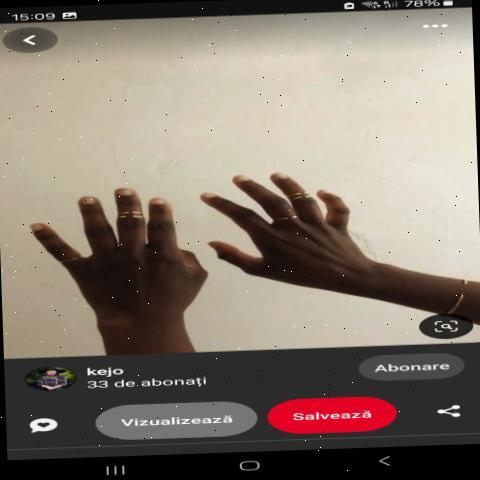Hands: (11, 152, 215, 345), (192, 149, 411, 301)
